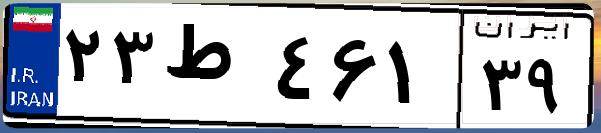1: (385, 28, 445, 110)
2: (57, 26, 110, 100)
3: (475, 38, 525, 113), (110, 28, 158, 98)
4: (270, 28, 330, 110)
6: (330, 28, 385, 110)
9: (525, 38, 570, 115)
ط: (158, 20, 270, 120)
